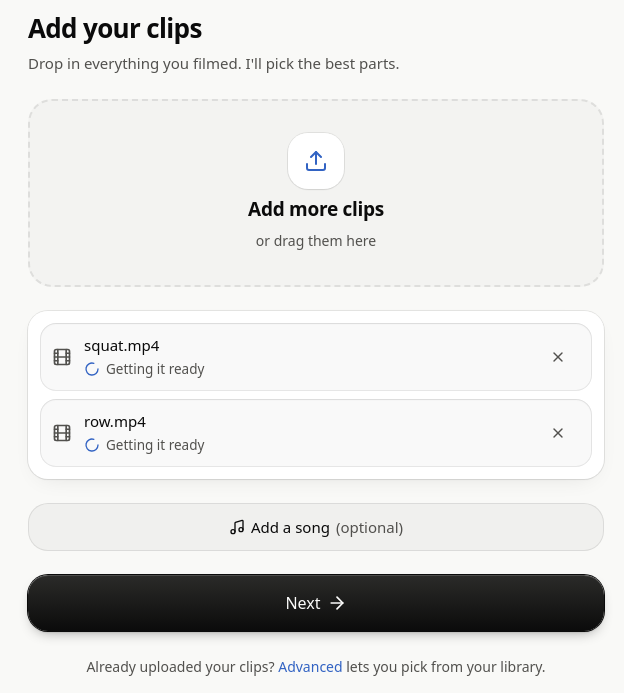
Test: the questions come one at a time, and a tap answers and moves on
Earlier steps of the test are not shown.
Click the button "Next" at (316, 602), box [28, 574, 604, 630]
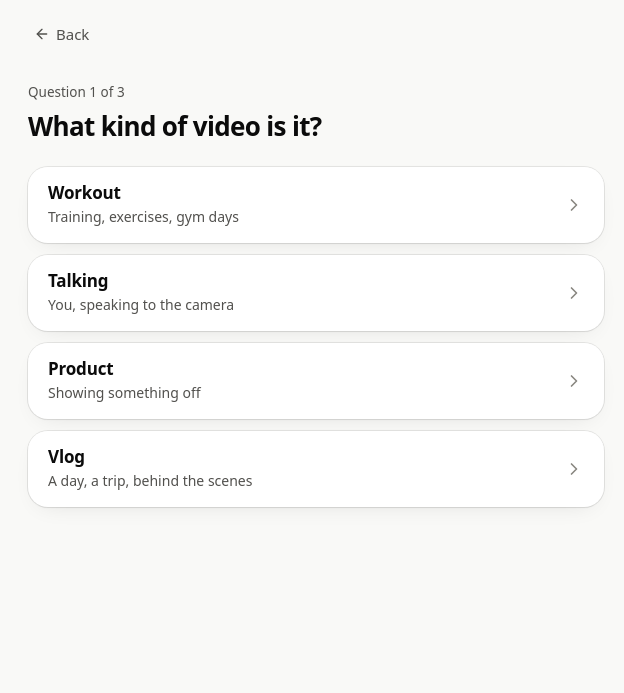
Expected: the text "Question 1 of 3" is shown, [28, 83, 125, 101]
Expected: the heading "What kind of video is it?" is shown, [28, 108, 322, 144]
Click the button "Talking You, speaking to the camera" at (78, 280), box [28, 254, 604, 330]
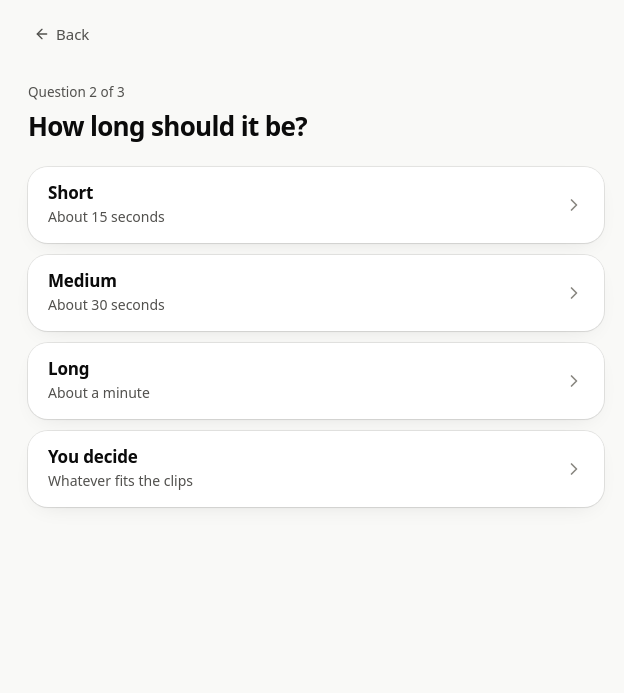
Expected: the text "Question 2 of 3" is shown, [28, 83, 125, 101]
Expected: the heading "How long should it be?" is shown, [28, 108, 307, 144]
Click the button "Back" at (62, 34), box [16, 12, 107, 56]
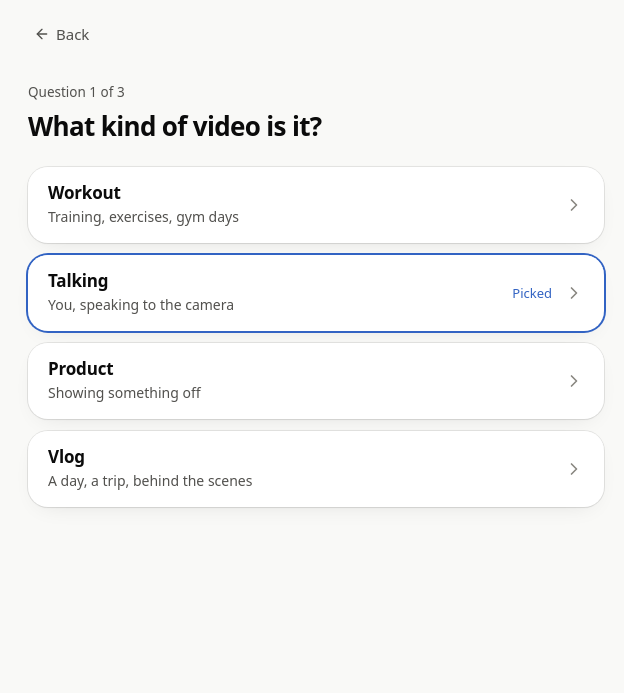
Expected: the button "Talking You, speaking to the camera Picked" is shown
Click the button "Talking You, speaking to the camera Picked" at (78, 280), box [28, 254, 604, 330]
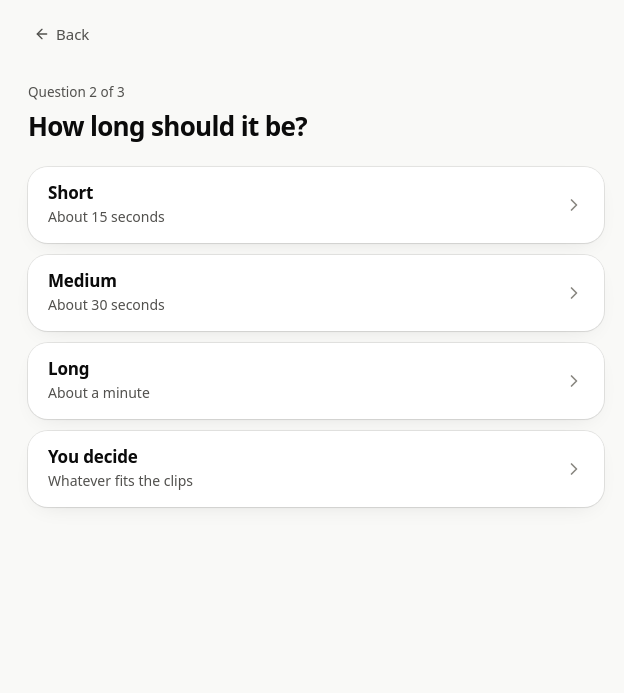
Click the button "Short About 15 seconds" at (71, 192), box [28, 166, 604, 242]
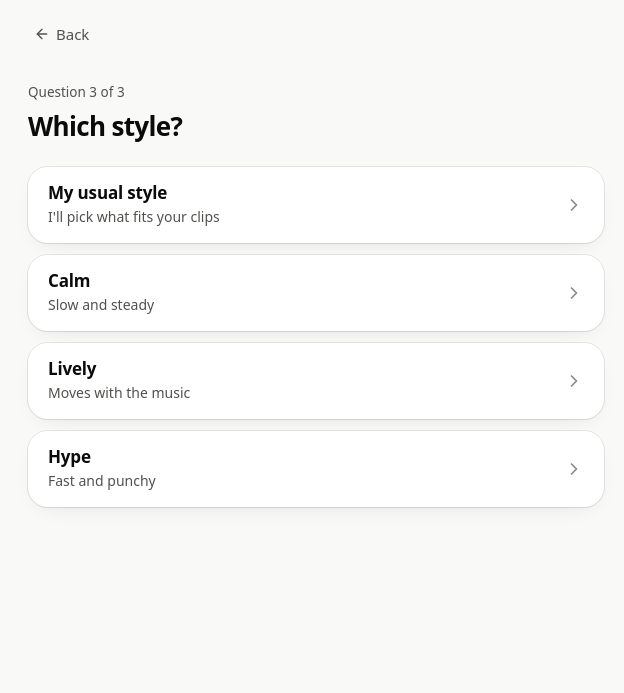
Expected: the text "Question 3 of 3" is shown, [28, 83, 125, 101]
Expected: the heading "Which style?" is shown, [28, 108, 182, 144]
Expected: the button "My usual style I'll pick what fits your clips" is shown, [28, 166, 604, 242]
